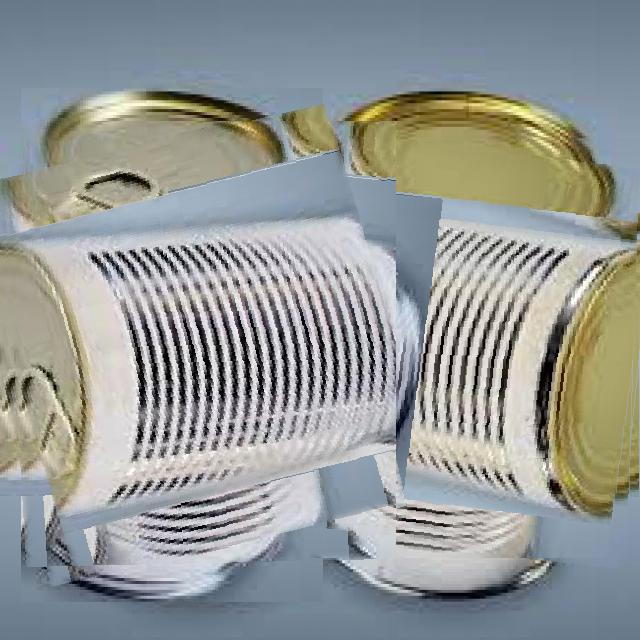recyclable: (0, 121, 396, 567), (240, 130, 640, 558)
